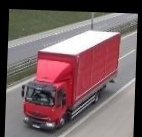truck: (24, 28, 121, 134)
